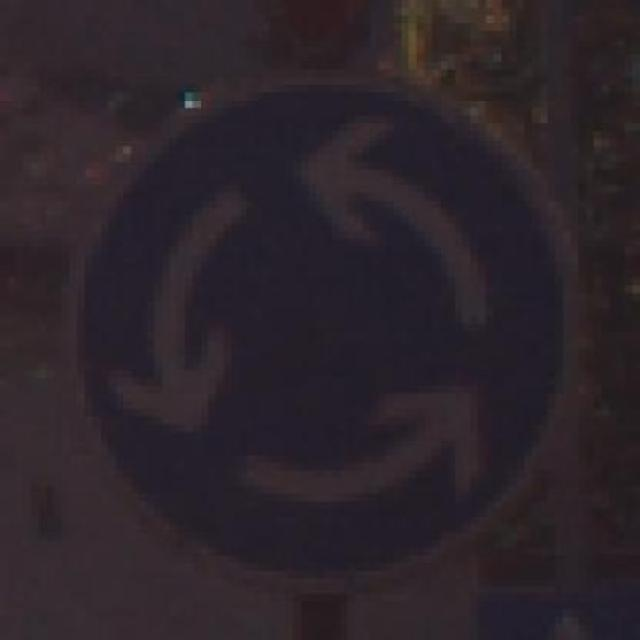Round-About: (31, 53, 624, 624)
